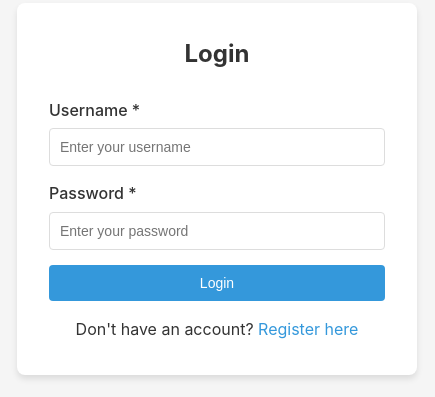
Test: Login Component › shows loading state during login submission
Type "testuser" into the field labelled "Username *". click: (217, 147)
box: 49,128 -> 385,166
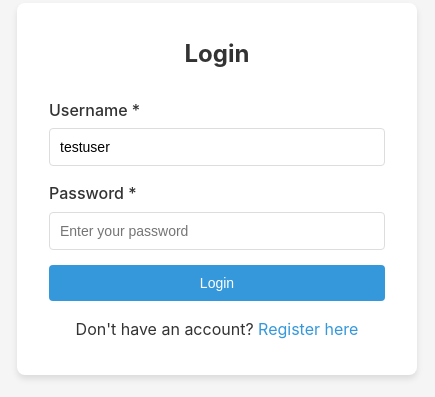
Type "password123" into the password field labelled "Password *". click: (217, 231)
box: 49,212 -> 385,250
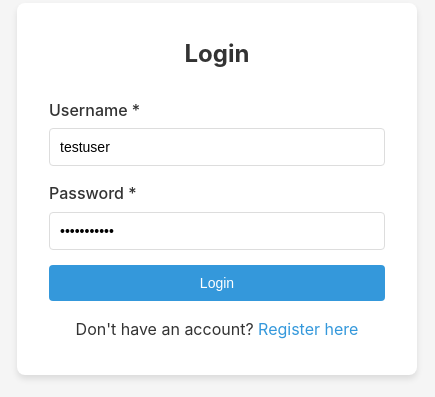
Click the button "Login". click: (217, 283)
box: 49,265 -> 385,301
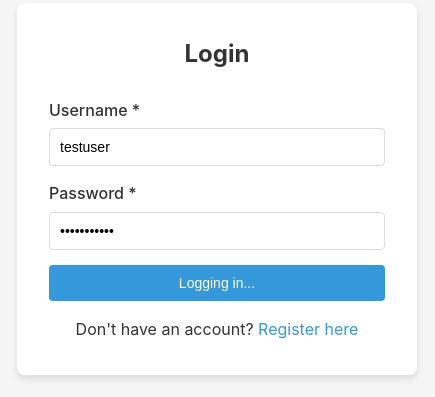
expect the button "Logging in..." is disabled: met, box 49,265 -> 385,301
